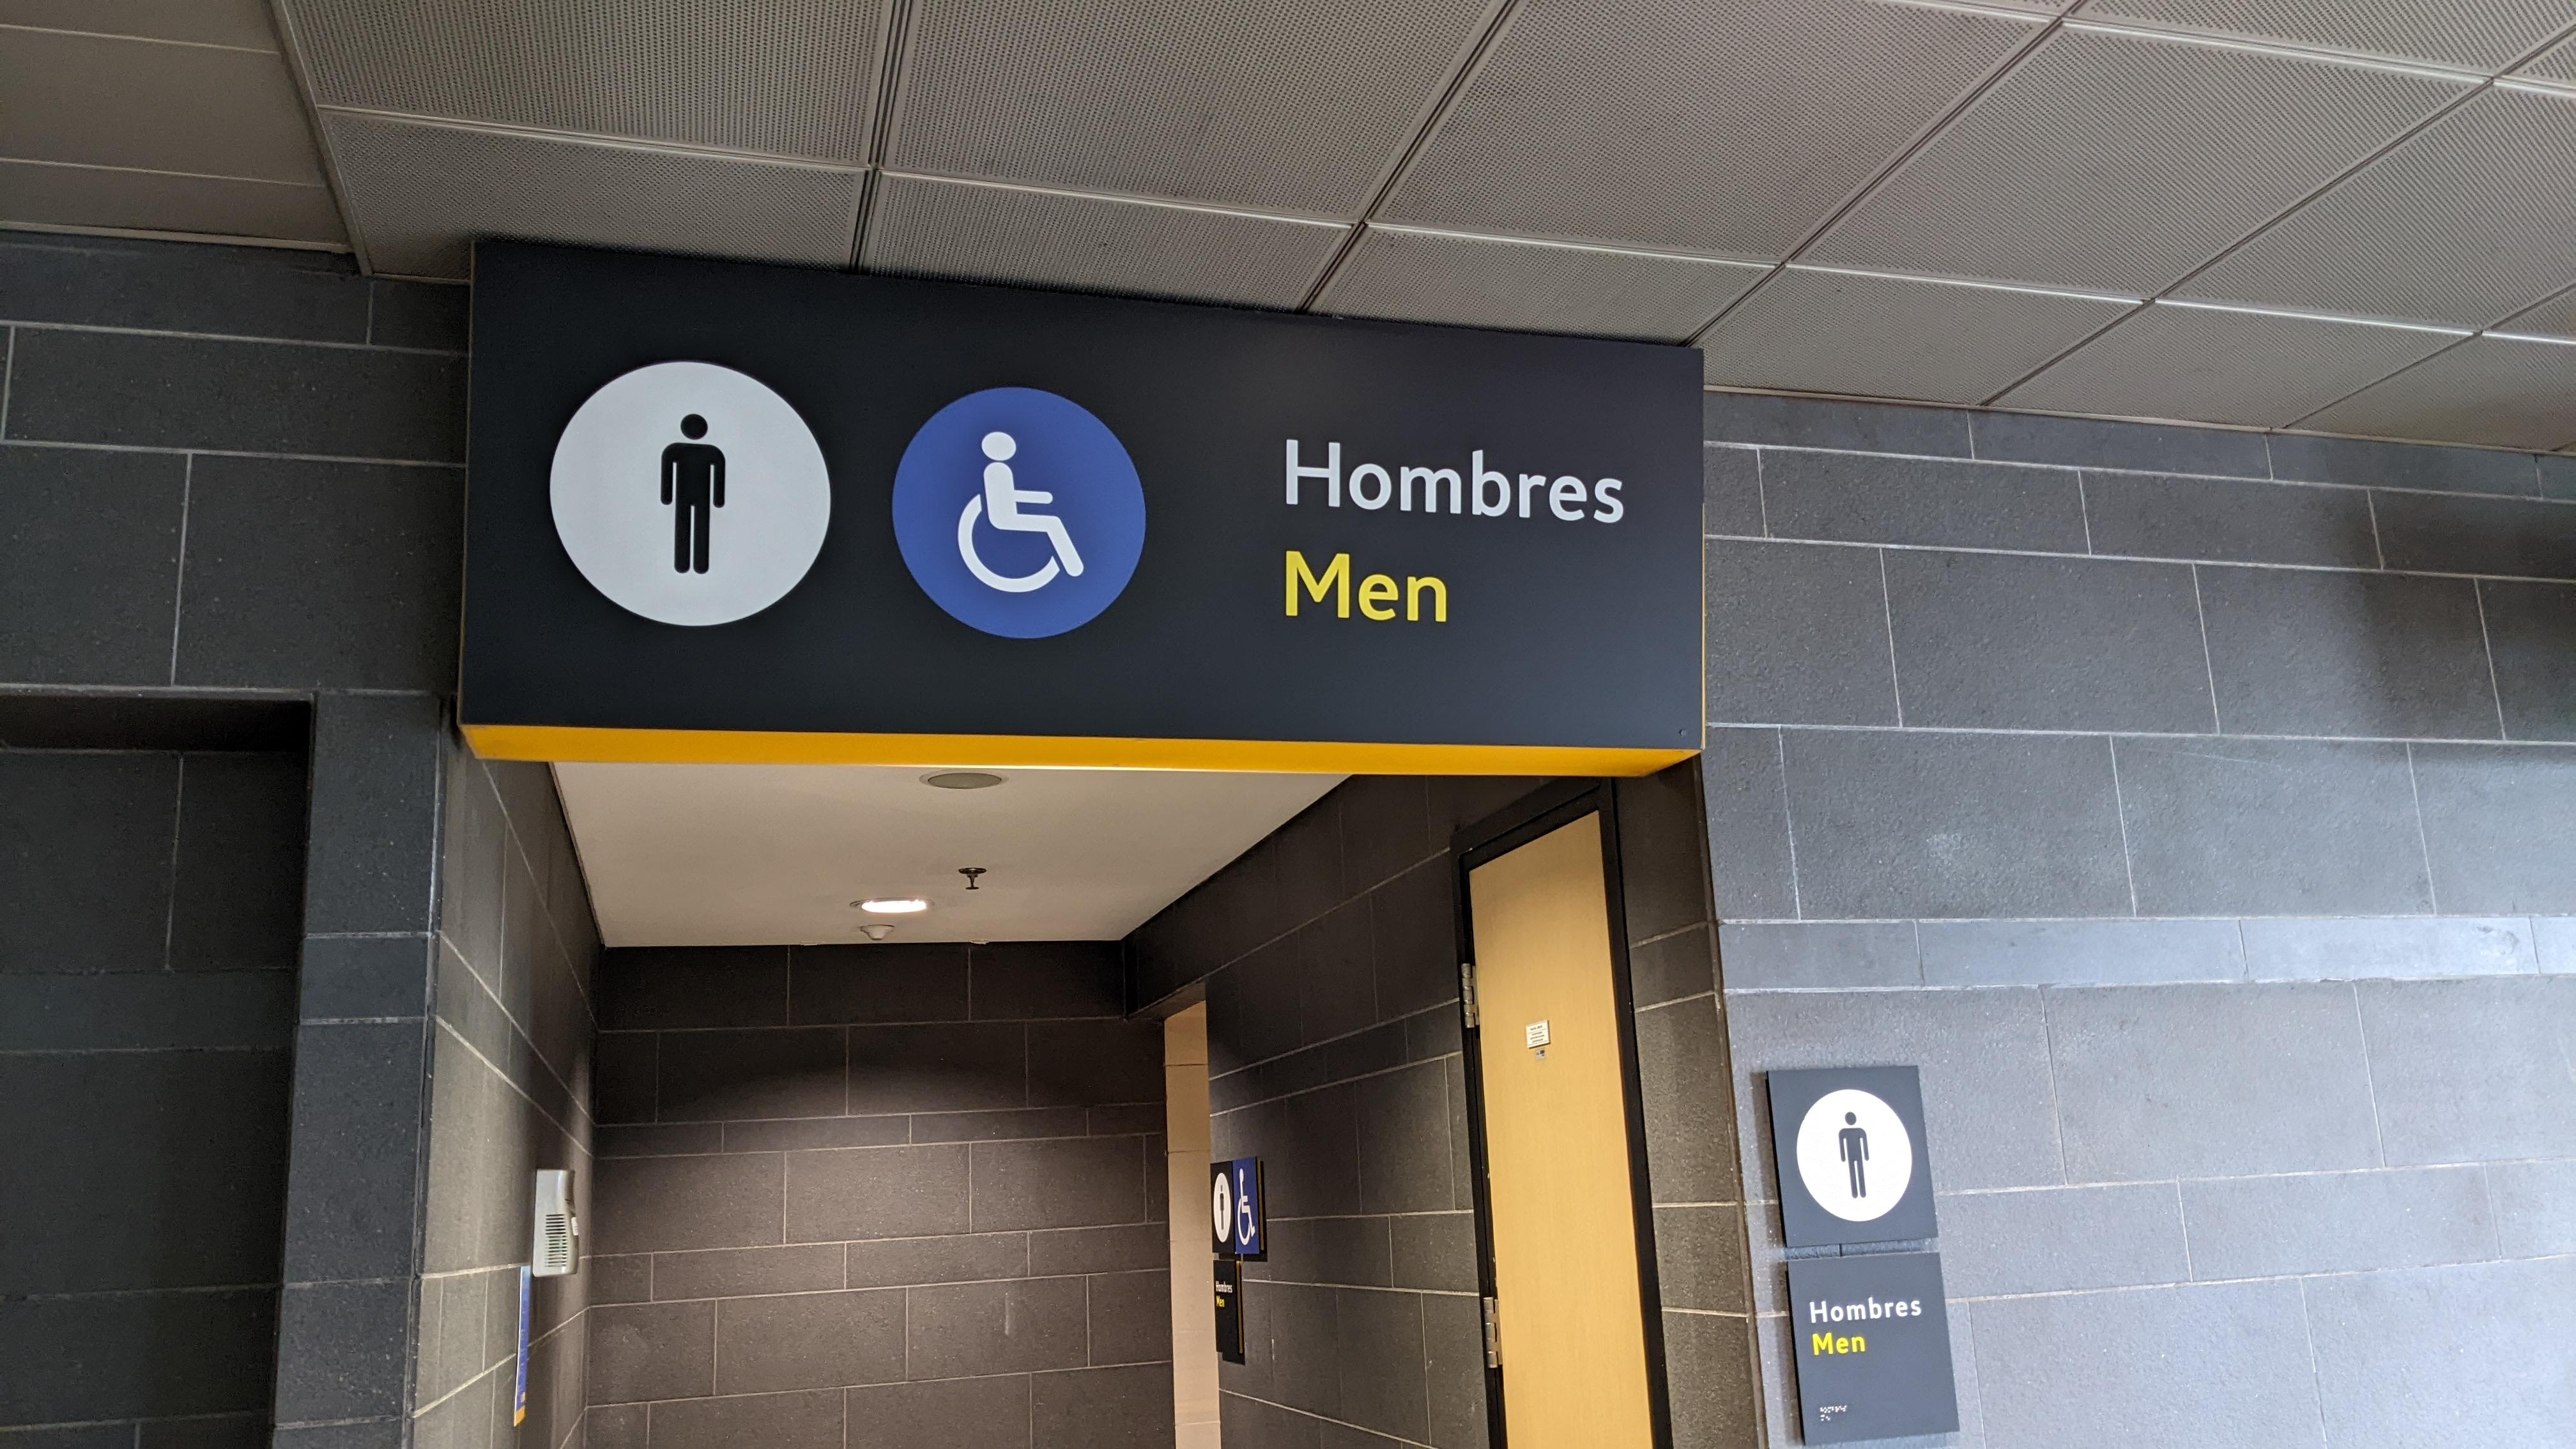handicapped symbol: (955, 428, 1088, 603), (1235, 1168, 1258, 1249)
